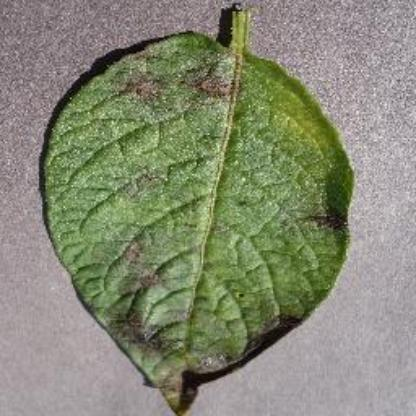Late-Blight: (23, 12, 376, 404)
